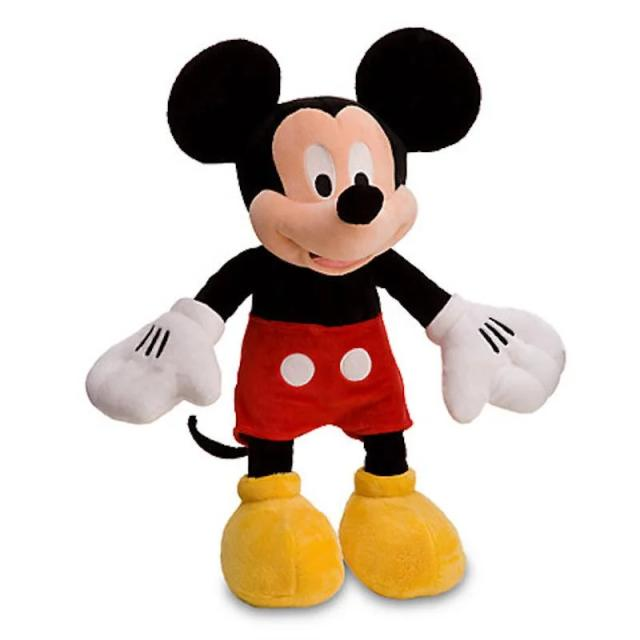mickey: (88, 29, 563, 607)
